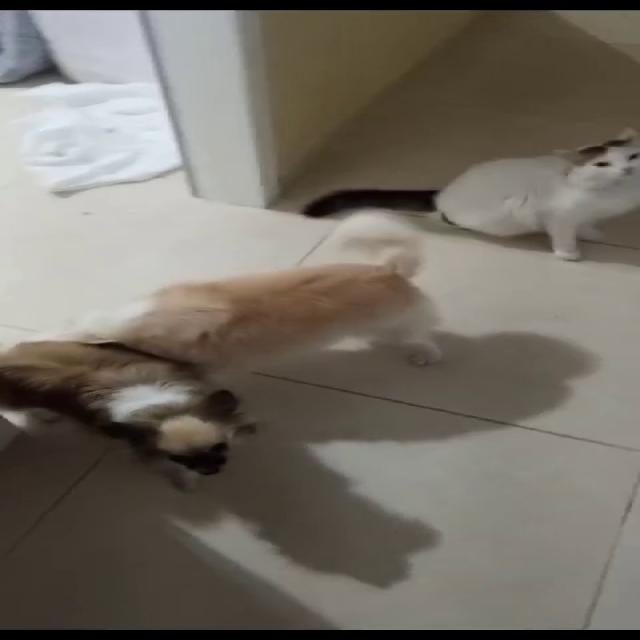Pedrita: (13, 320, 245, 492)
Simba: (372, 128, 639, 271)
Theo: (106, 265, 483, 381)
